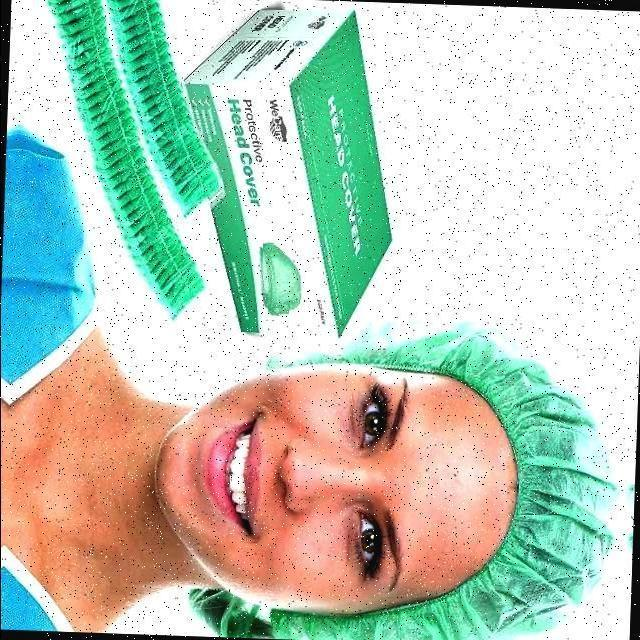gloves: (434, 324, 612, 640)
no_hairnet: (200, 398, 334, 564)
